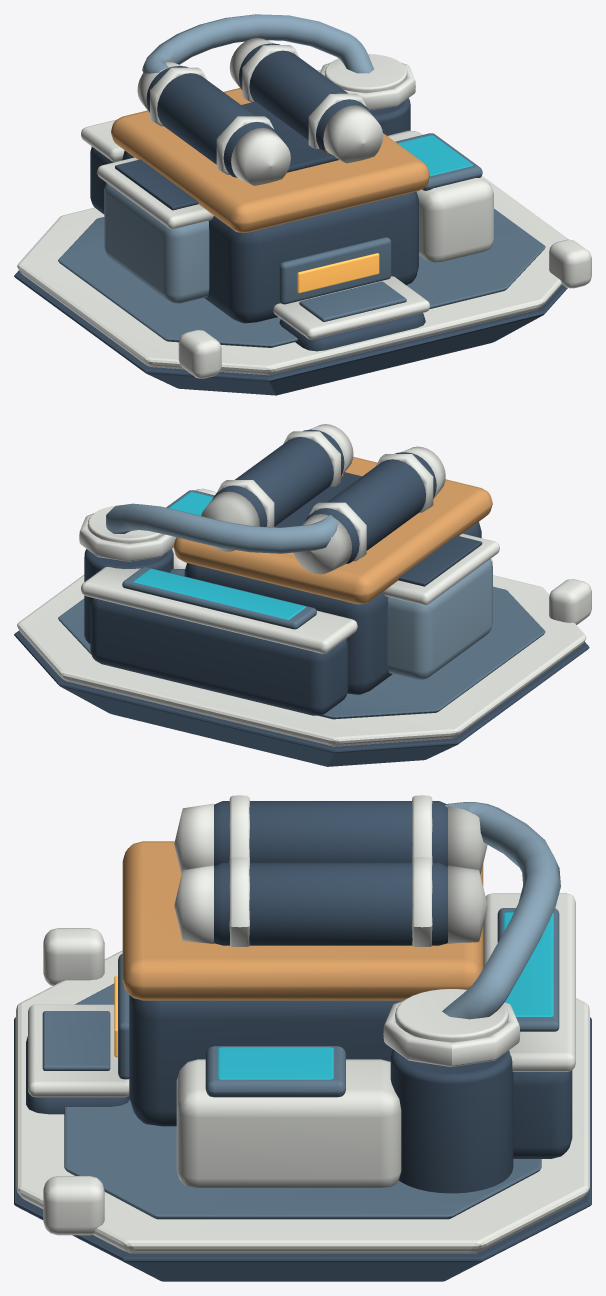
The model's file is interstellar_refinery_lv5.glb.
The picture shows the model from 3 angles, top to bottom: view 1: azimuth 30°, elevation 25°; view 2: azimuth 150°, elevation 25°; view 3: azimuth 270°, elevation 25°; orthographic projection. The views are drawn at different scales.
Visible parts, largest first — view 1: Structure; view 2: Structure; view 3: Structure.
Boxes of the visible parts, x1,y1,x2,y2 form: Structure: (14,14,591,395); Structure: (14,424,591,766); Structure: (14,795,591,1281).
Size of the model in its own units: 7.81 by 3.87 by 6.41.
